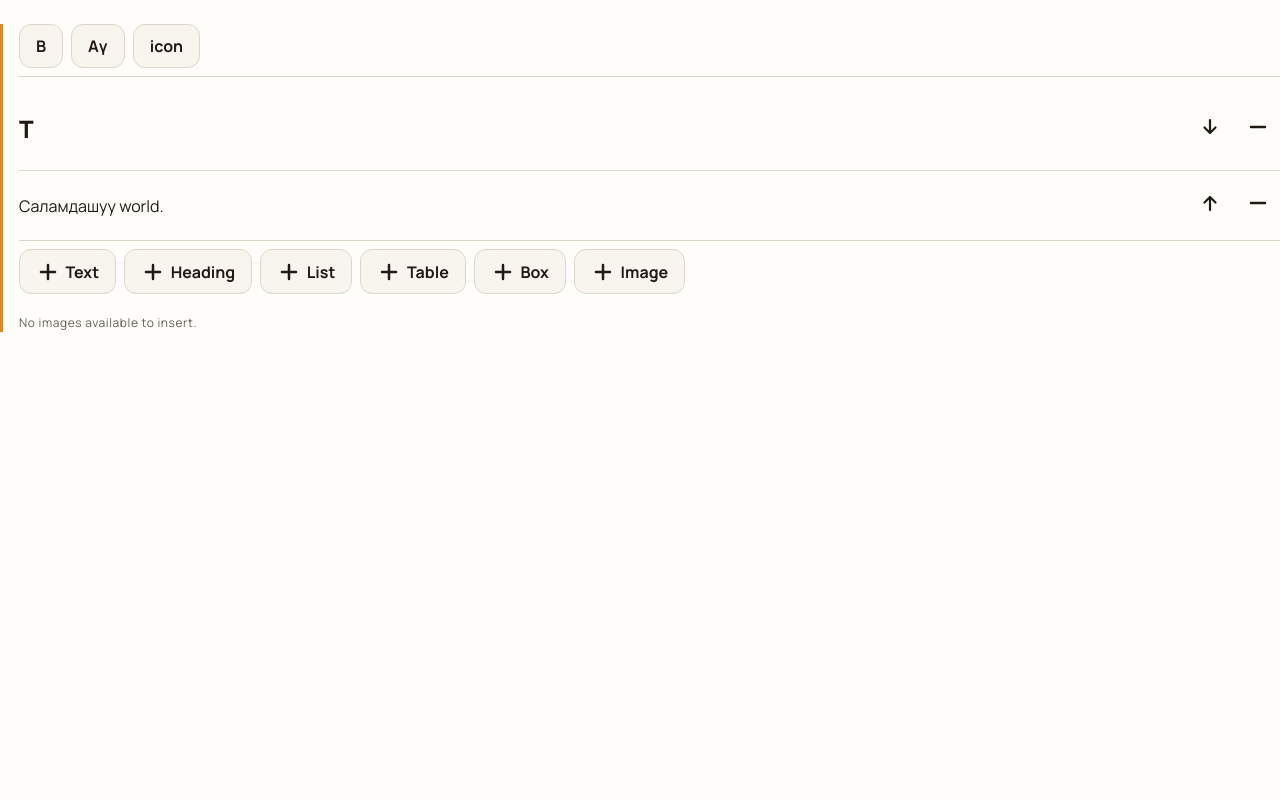
Test case: NoteEditor - lexicon sheet (spec 0021-3) › tapping a search row replaces the wrapped text with that entry's script and leaves the rest of the note byte-identical
Click the button with aria-label "Edit this text" at point(91, 206), box [19,195,164,217]
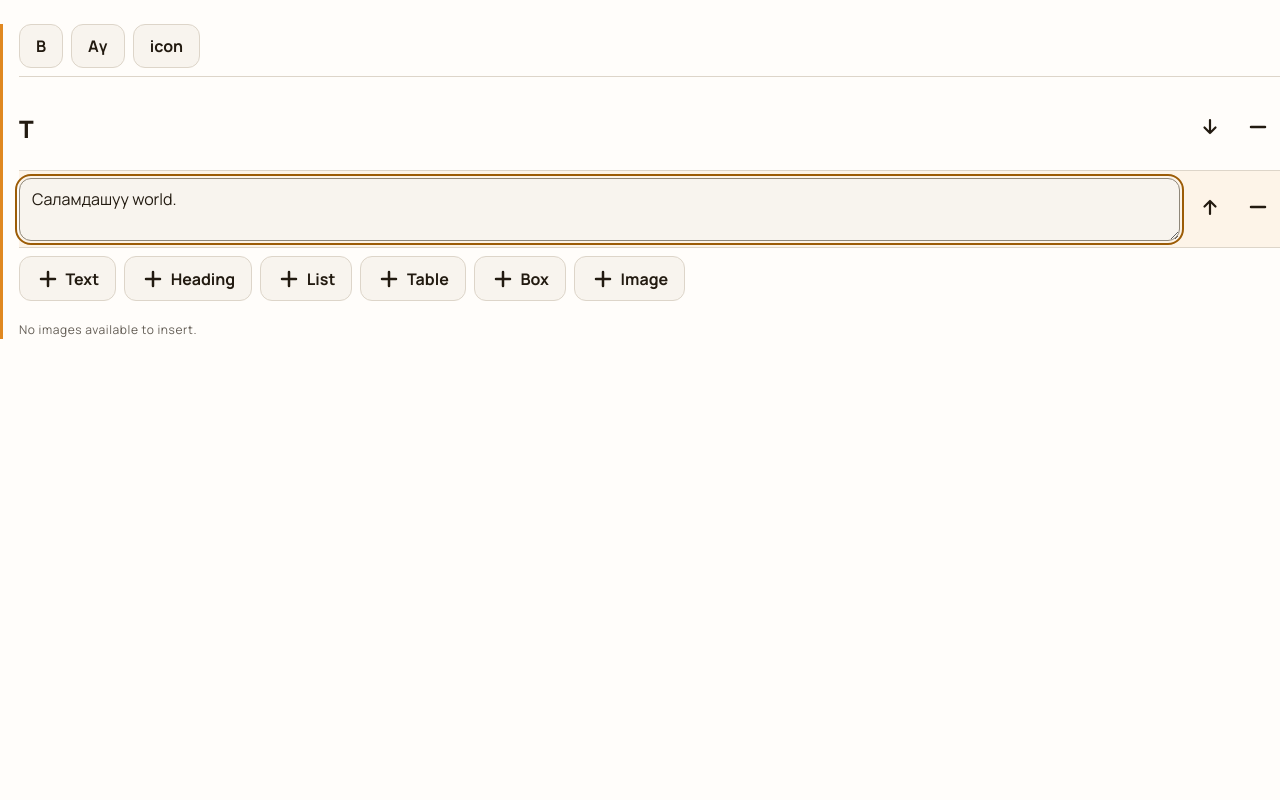
Click the button "Аү" at point(98, 46), box [71,24,125,68]
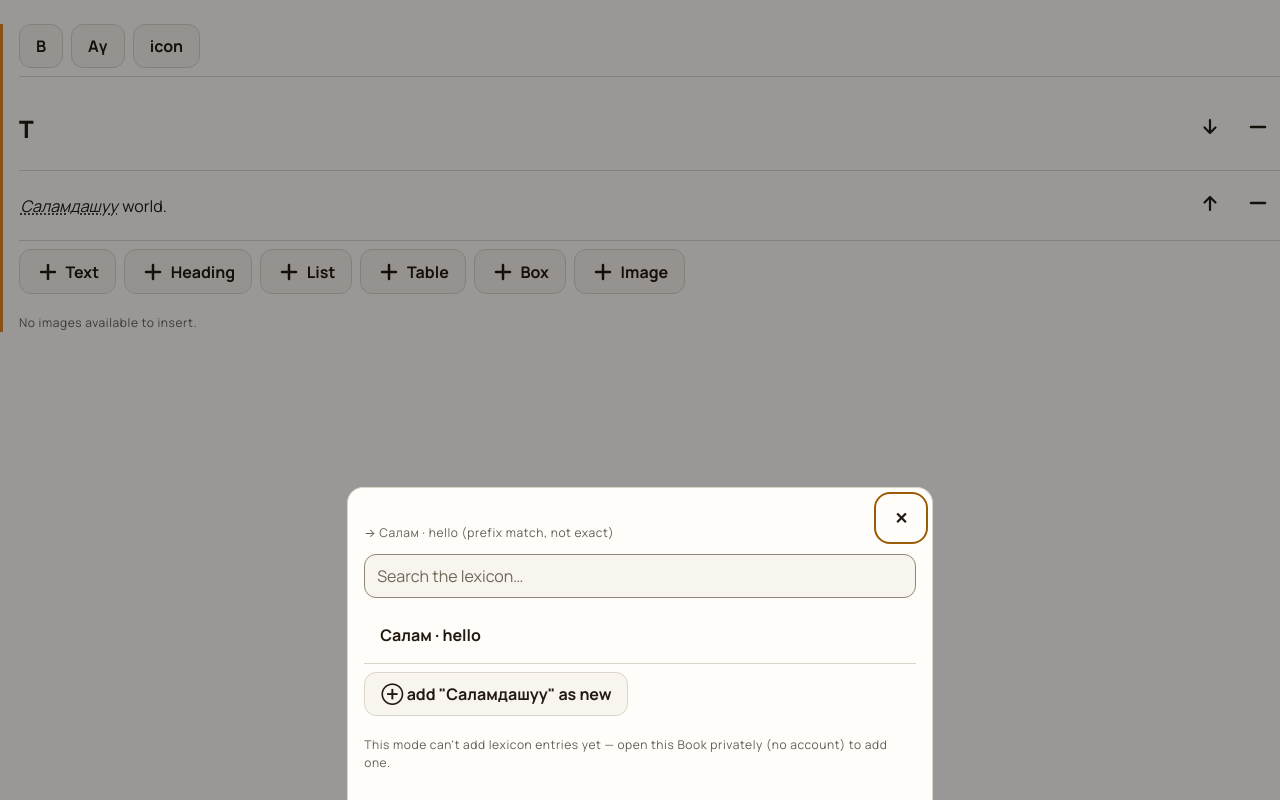
Type "hello" into the field with placeholder "Search the lexicon…" at point(640, 576), box [364,554,916,598]
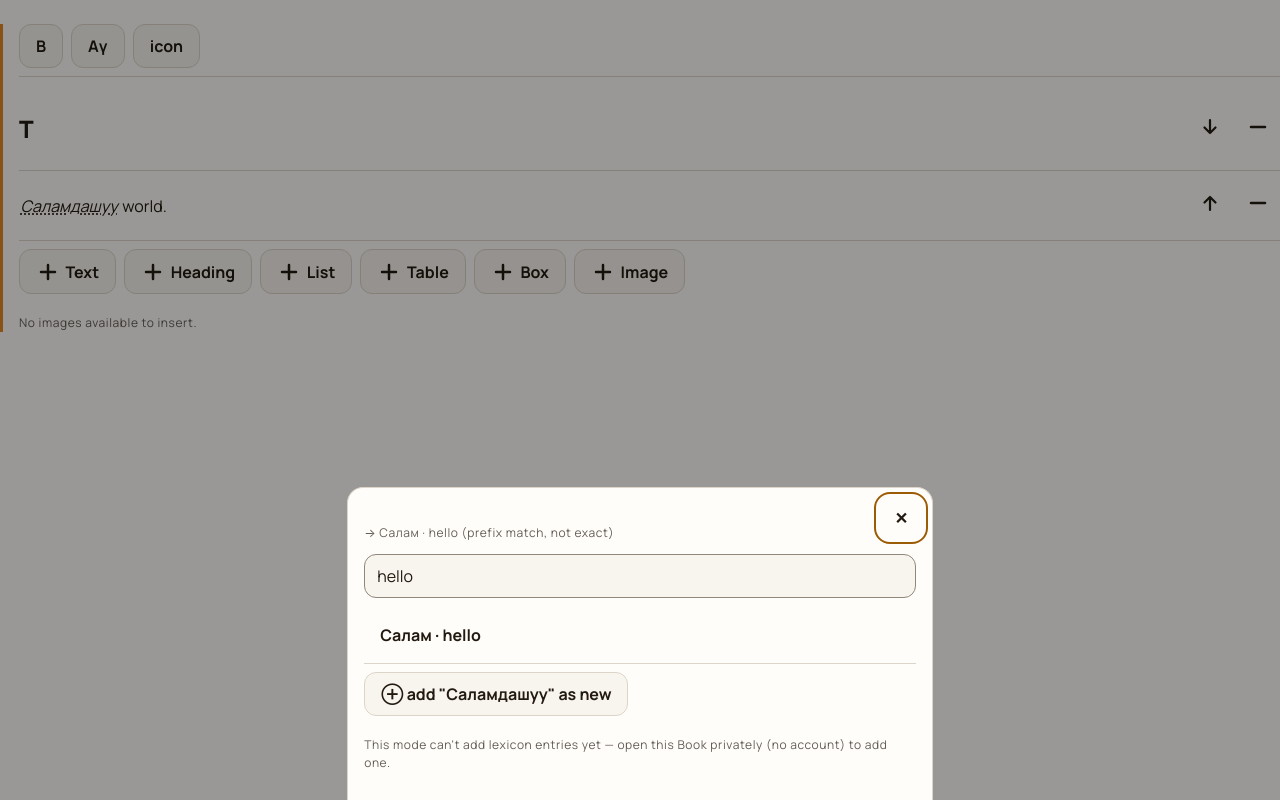
Click the button "Салам · hello" at point(431, 635), box [364,613,497,657]
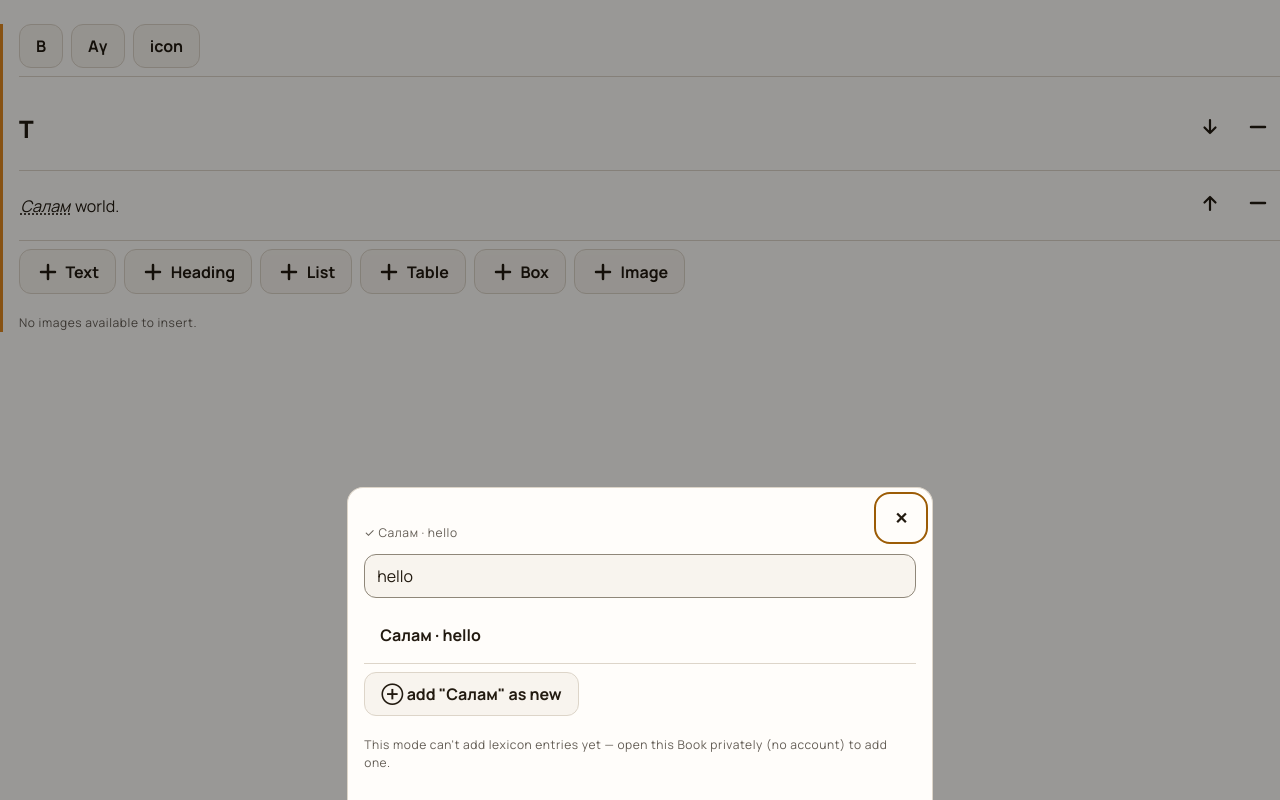
Result: the text "✓ Салам · hello" is shown at [364,524,458,541]
